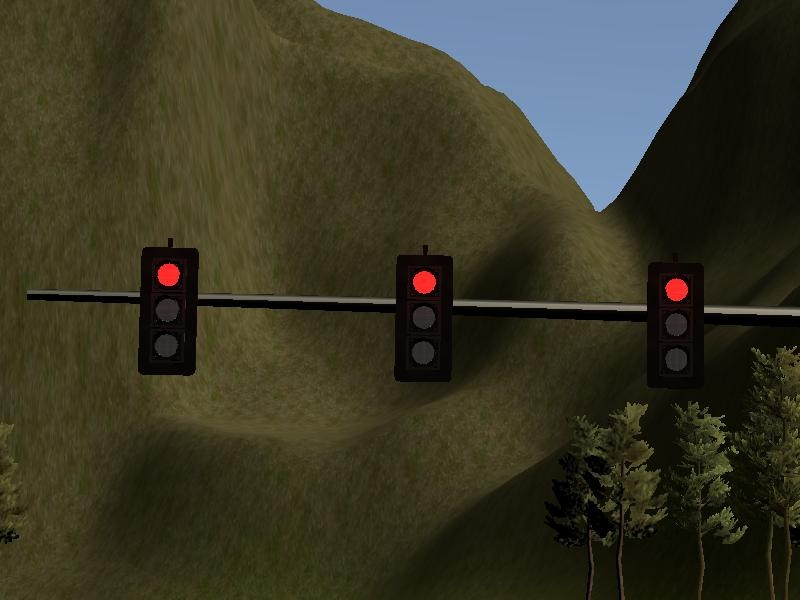red: (643, 253, 710, 393), (136, 243, 203, 378), (393, 247, 457, 387)
